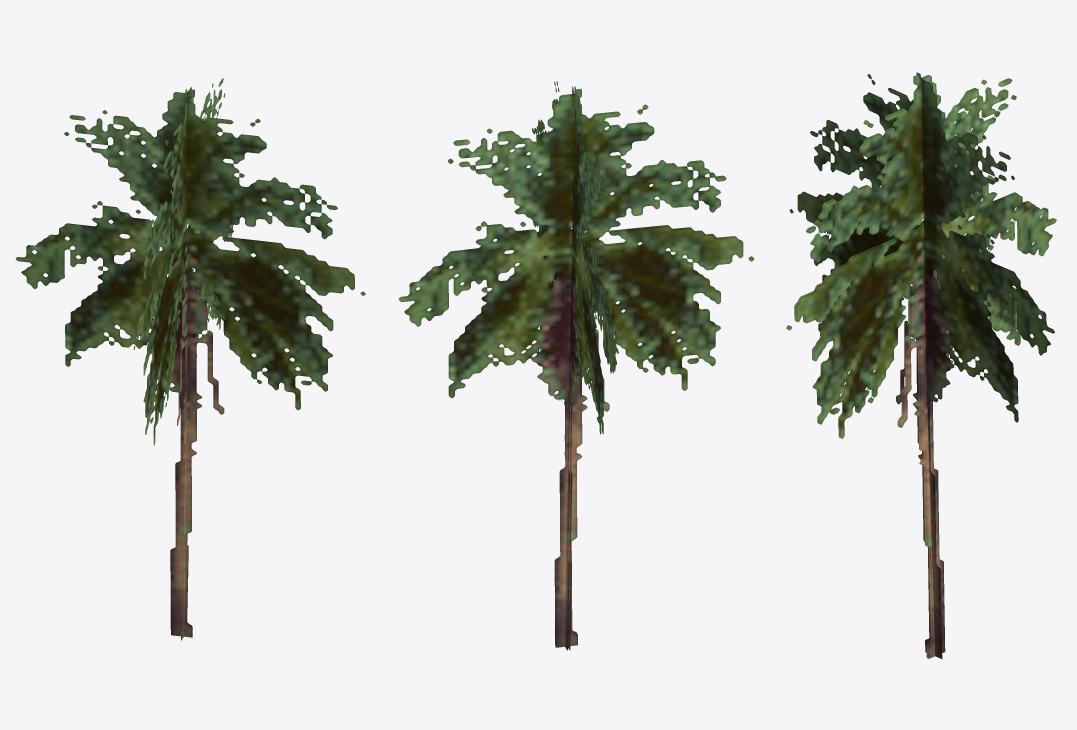
The model's file is tree031.fbx.
The picture shows the model from 3 angles, left to right: view 1: azimuth 30°, elevation 25°; view 2: azimuth 150°, elevation 25°; view 3: azimuth 270°, elevation 25°; orthographic projection. The views are drawn at different scales.
Visible parts, largest first — view 1: tree031; view 2: tree031; view 3: tree031.
Boxes of the visible parts, x1=… form: tree031: x1=15, y1=78, x2=365, y2=640; tree031: x1=398, y1=81, x2=754, y2=650; tree031: x1=786, y1=72, x2=1056, y2=658.
Size of the model in its own units: 226 by 510 by 218.
Materials: 1 (1 with a texture image).
